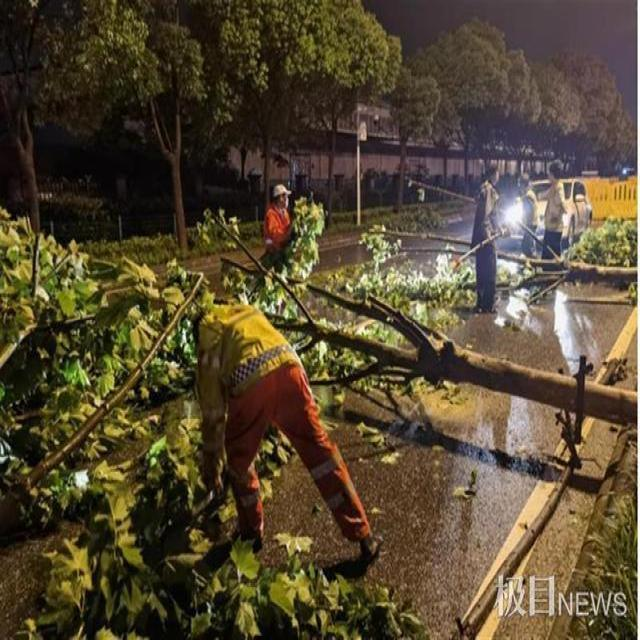fallen_object: (506, 249, 640, 298)
